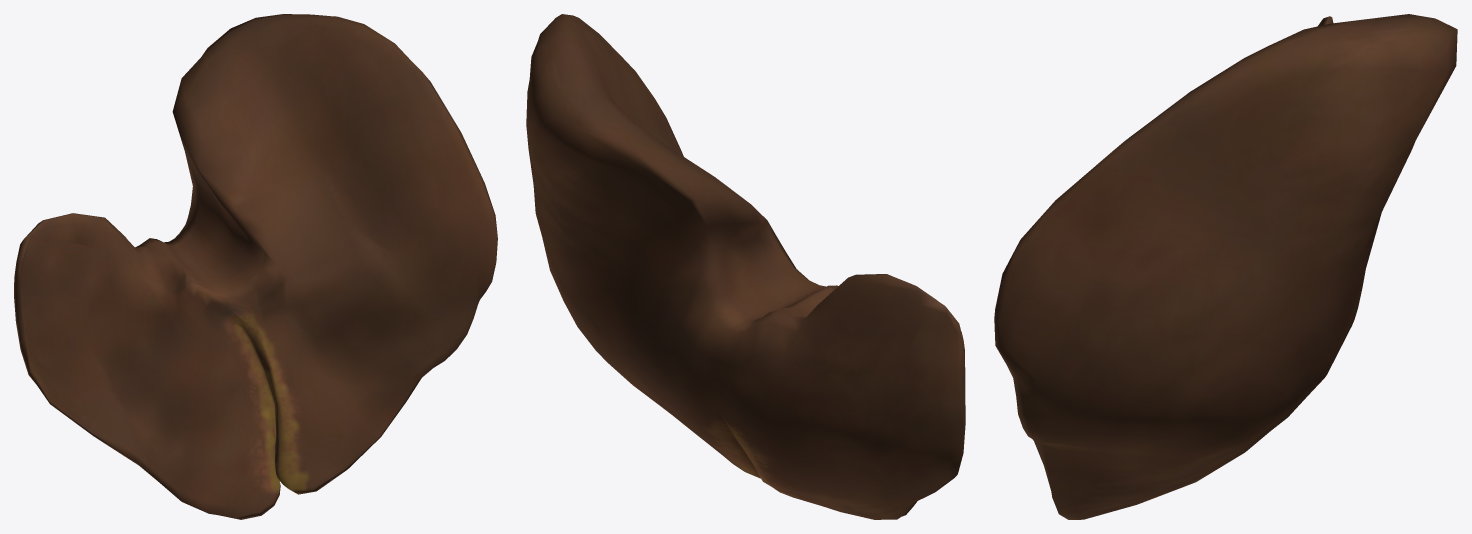
The model's file is Liver.fbx.
The picture shows the model from 3 angles, left to right: view 1: azimuth 30°, elevation 25°; view 2: azimuth 150°, elevation 25°; view 3: azimuth 270°, elevation 25°; orthographic projection. The views are drawn at different scales.
Visible parts, largest first — view 1: node_Liver_-994_1; view 2: node_Liver_-994_1; view 3: node_Liver_-994_1.
Part boxes in pixels (x1,y1,x2,y2): node_Liver_-994_1: [14, 14, 497, 519]; node_Liver_-994_1: [526, 14, 965, 519]; node_Liver_-994_1: [994, 14, 1457, 519].
Bounding box in the file's own units: 144 × 145 × 102.
